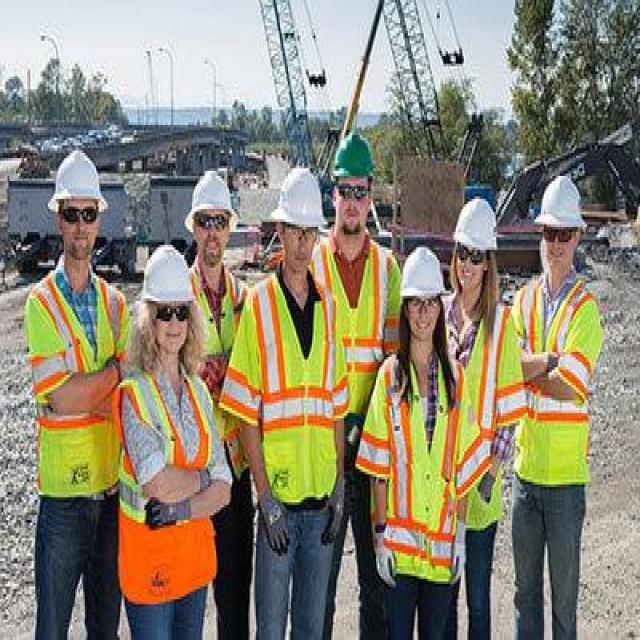Reflective-Jacket: (120, 372, 218, 602), (26, 276, 123, 502), (250, 283, 340, 505), (378, 357, 466, 579), (514, 278, 600, 487), (448, 302, 526, 500), (318, 240, 398, 432)
Safety-Helmet: (46, 145, 106, 212), (139, 242, 194, 306), (272, 163, 323, 230), (534, 173, 586, 232), (398, 242, 446, 304), (451, 194, 501, 252), (330, 128, 378, 186), (187, 166, 234, 217)
